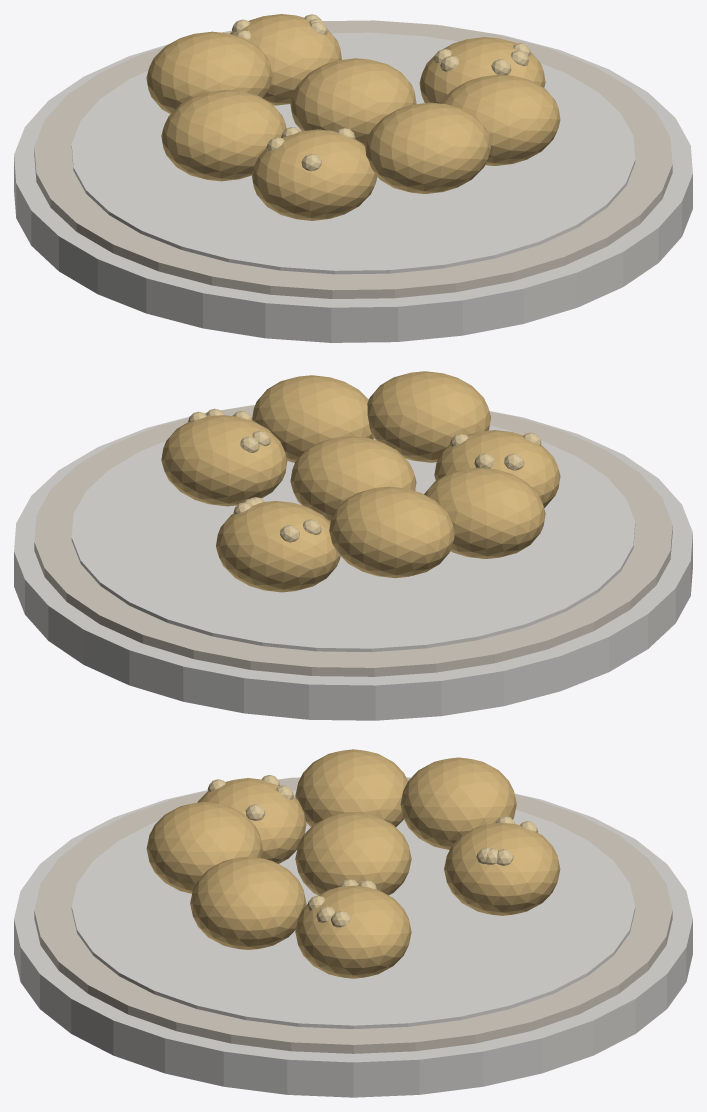
File: ga_popcorn.glb
3 views of the same model, one above another, from view 1: azimuth 30°, elevation 25°; view 2: azimuth 150°, elevation 25°; view 3: azimuth 270°, elevation 25° (orthographic).
Visible parts, largest first — view 1: obj_0002, obj_0000, obj_0001, obj_0015, obj_0021, obj_0027, obj_0045, obj_0033, obj_0009, obj_0039, obj_0003; view 2: obj_0002, obj_0000, obj_0001, obj_0033, obj_0003, obj_0039, obj_0015, obj_0027, obj_0009, obj_0045, obj_0021; view 3: obj_0002, obj_0000, obj_0001, obj_0009, obj_0039, obj_0003, obj_0033, obj_0045, obj_0015, obj_0027, obj_0021.
Part boxes in pixels (left/top/right/bottom): obj_0002: left=71, top=32, right=635, bottom=274; obj_0000: left=14, top=25, right=692, bottom=342; obj_0001: left=34, top=20, right=672, bottom=298; obj_0015: left=365, top=102, right=490, bottom=193; obj_0021: left=252, top=129, right=377, bottom=220; obj_0027: left=161, top=89, right=286, bottom=181; obj_0045: left=290, top=58, right=416, bottom=146; obj_0033: left=146, top=31, right=272, bottom=114; obj_0009: left=440, top=74, right=560, bottom=165; obj_0039: left=230, top=14, right=341, bottom=105; obj_0003: left=419, top=37, right=545, bottom=103; obj_0002: left=71, top=425, right=635, bottom=652; obj_0000: left=14, top=405, right=692, bottom=720; obj_0001: left=34, top=398, right=672, bottom=676; obj_0033: left=329, top=486, right=454, bottom=578; obj_0003: left=161, top=415, right=287, bottom=506; obj_0039: left=216, top=501, right=340, bottom=592; obj_0015: left=367, top=371, right=490, bottom=462; obj_0027: left=424, top=467, right=545, bottom=558; obj_0009: left=252, top=375, right=373, bottom=462; obj_0045: left=290, top=436, right=416, bottom=522; obj_0021: left=434, top=430, right=560, bottom=507; obj_0002: left=71, top=790, right=635, bottom=1028; obj_0000: left=14, top=790, right=692, bottom=1097; obj_0001: left=34, top=777, right=672, bottom=1053; obj_0009: left=190, top=856, right=306, bottom=949; obj_0039: left=444, top=822, right=560, bottom=915; obj_0003: left=295, top=885, right=411, bottom=978; obj_0033: left=400, top=757, right=516, bottom=849; obj_0045: left=295, top=812, right=411, bottom=895; obj_0015: left=146, top=802, right=262, bottom=893; obj_0027: left=295, top=749, right=407, bottom=826; obj_0021: left=197, top=778, right=306, bottom=863.
Bounding box in the file's own units: 2.1 × 0.49 × 2.1.
